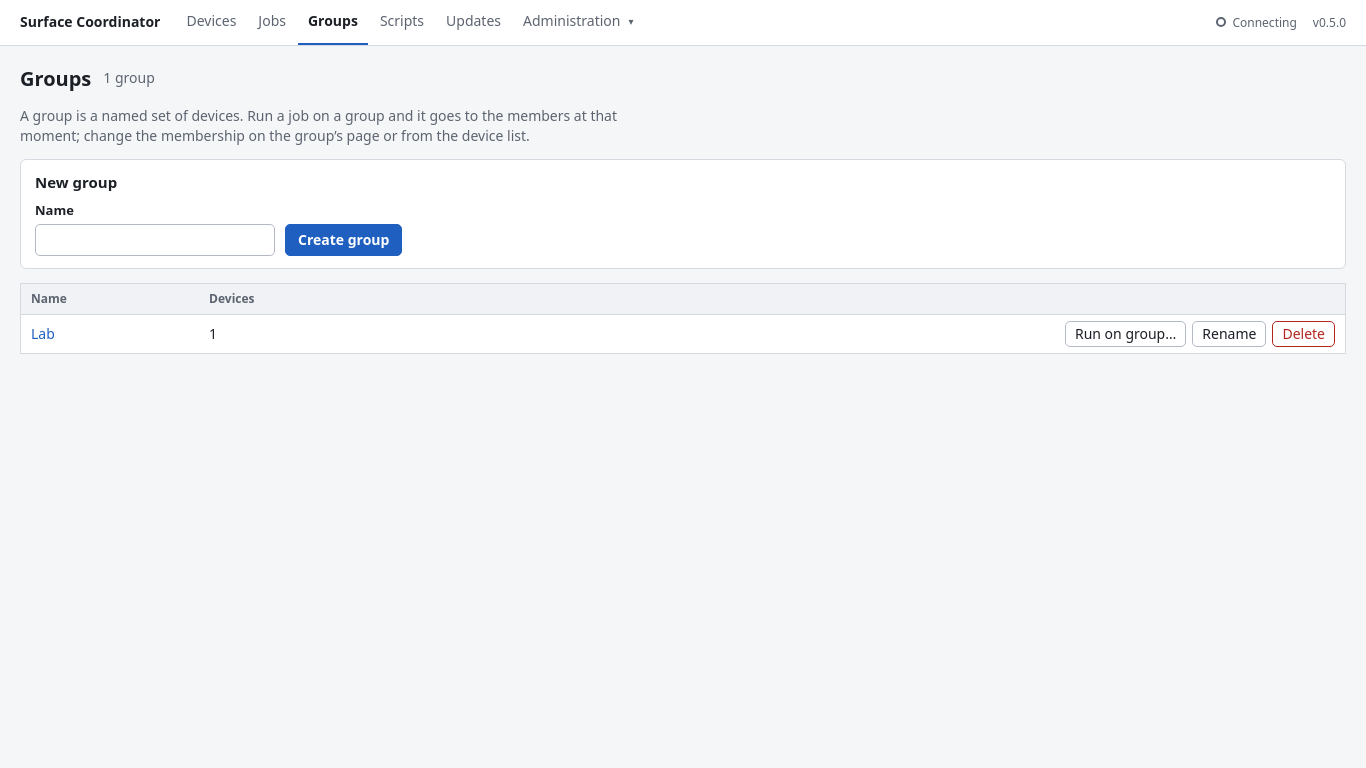
Test case: Groups page › words the delete warning for a group with one device in the singular
Click the button with aria-label "Delete Lab". click: (1304, 334)
box: left=1272, top=321, right=1335, bottom=347
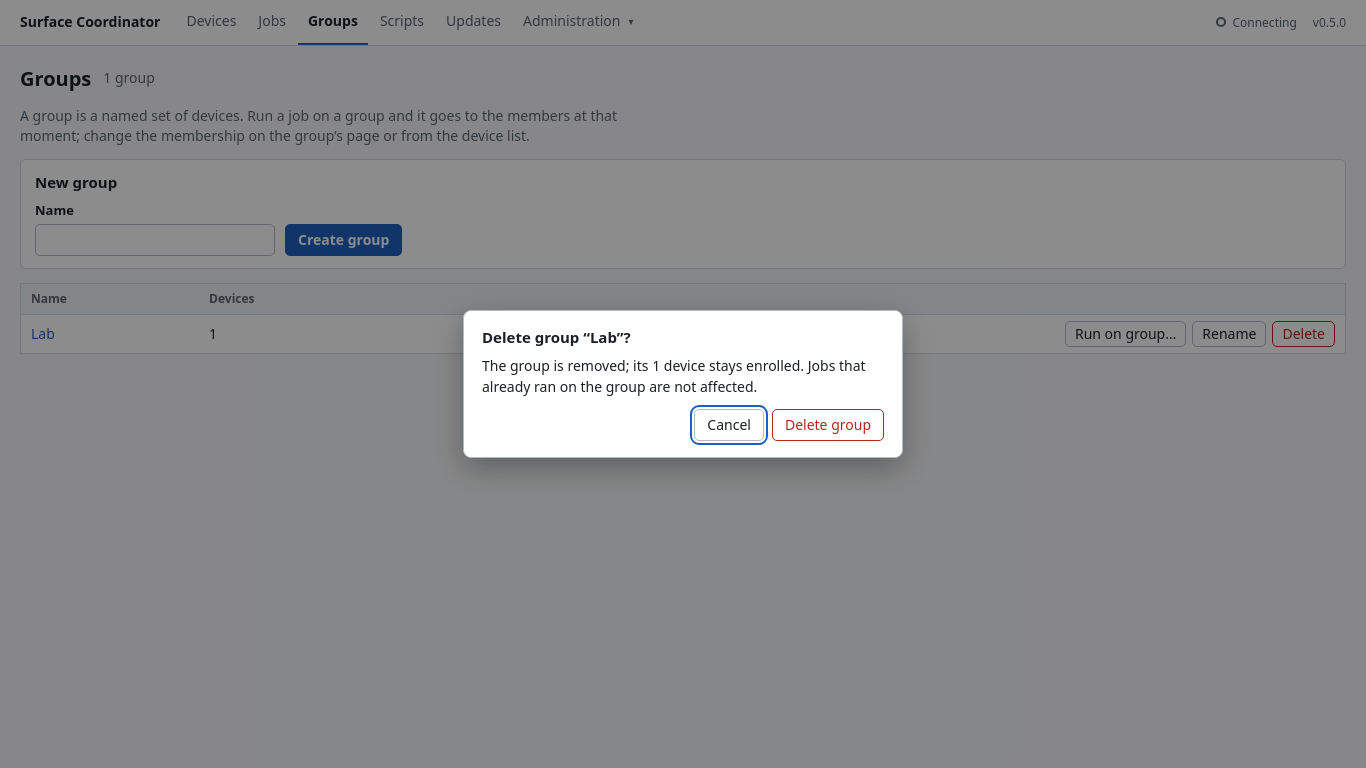
Now the text "its 1 device stays enrolled" is shown, box left=482, top=356, right=884, bottom=397
